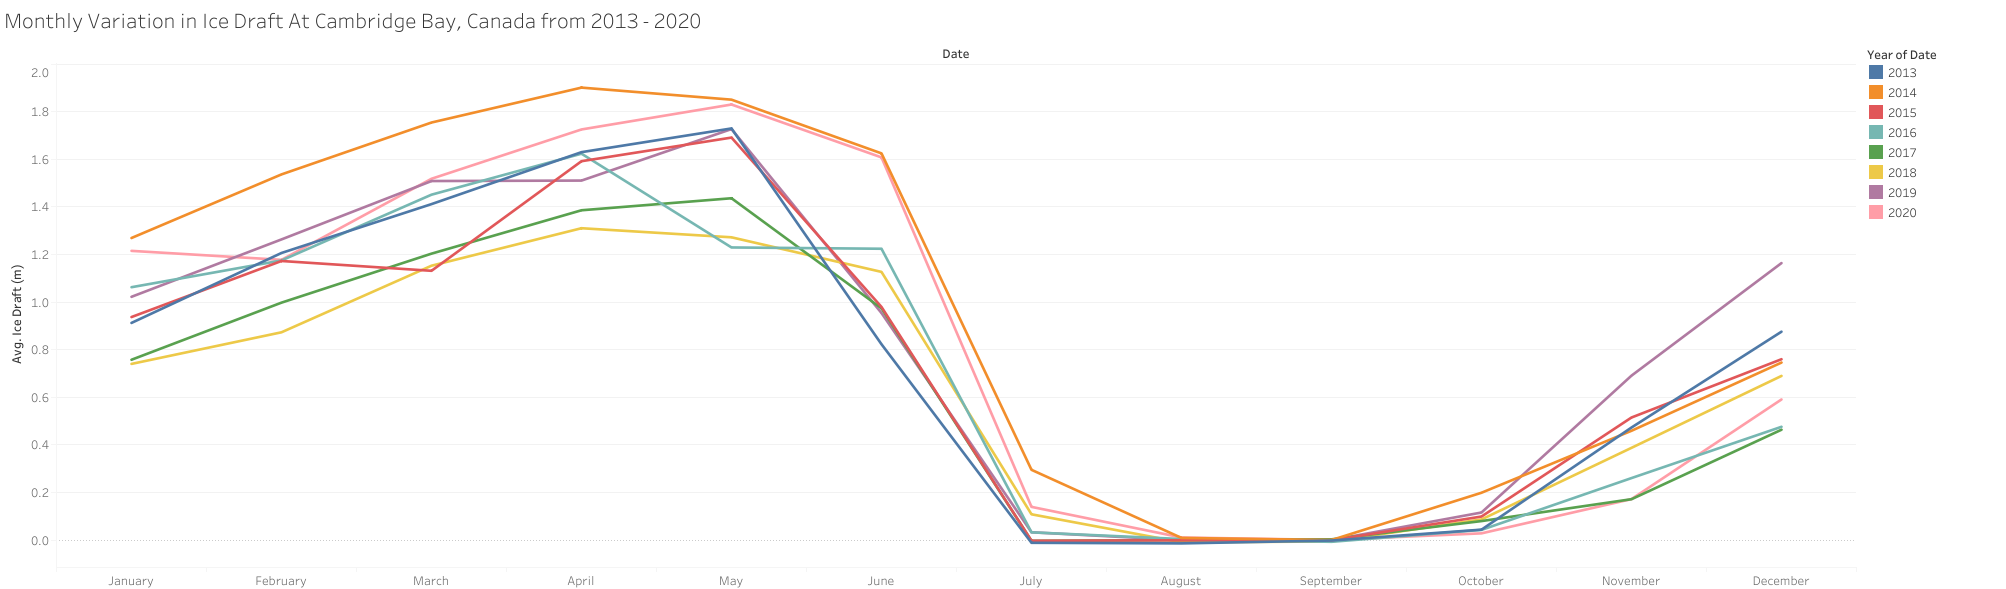

What the dashboard file says about the page in this screenshot:
{"tool":"tableau","page":{"name":"Dashboard 1","canvas":[650,860],"ordinal":0},"visuals":[{"type":"worksheet","title":"Sheet 1","mark":"Line","rows":["F5"],"cols":["Date"],"box":[8,9.8,634,840.3]}]}

Visuals, with their boxes on the page's 650x860 design canvas (x1, y1, x2, y2). These are canvas units, not pixel positions in the 2006x589 screenshot, which may show the page scaled, cropped or inside an application window:
"Sheet 1" worksheet (Line marks): {"left": 8, "top": 10, "right": 642, "bottom": 850}
